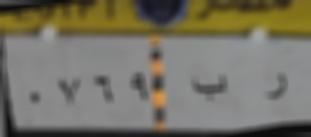0: (21, 87, 50, 115)
6: (91, 71, 118, 107)
7: (54, 71, 86, 112)
9: (129, 69, 150, 106)
baa: (189, 72, 231, 108)
raa: (261, 70, 294, 102)
